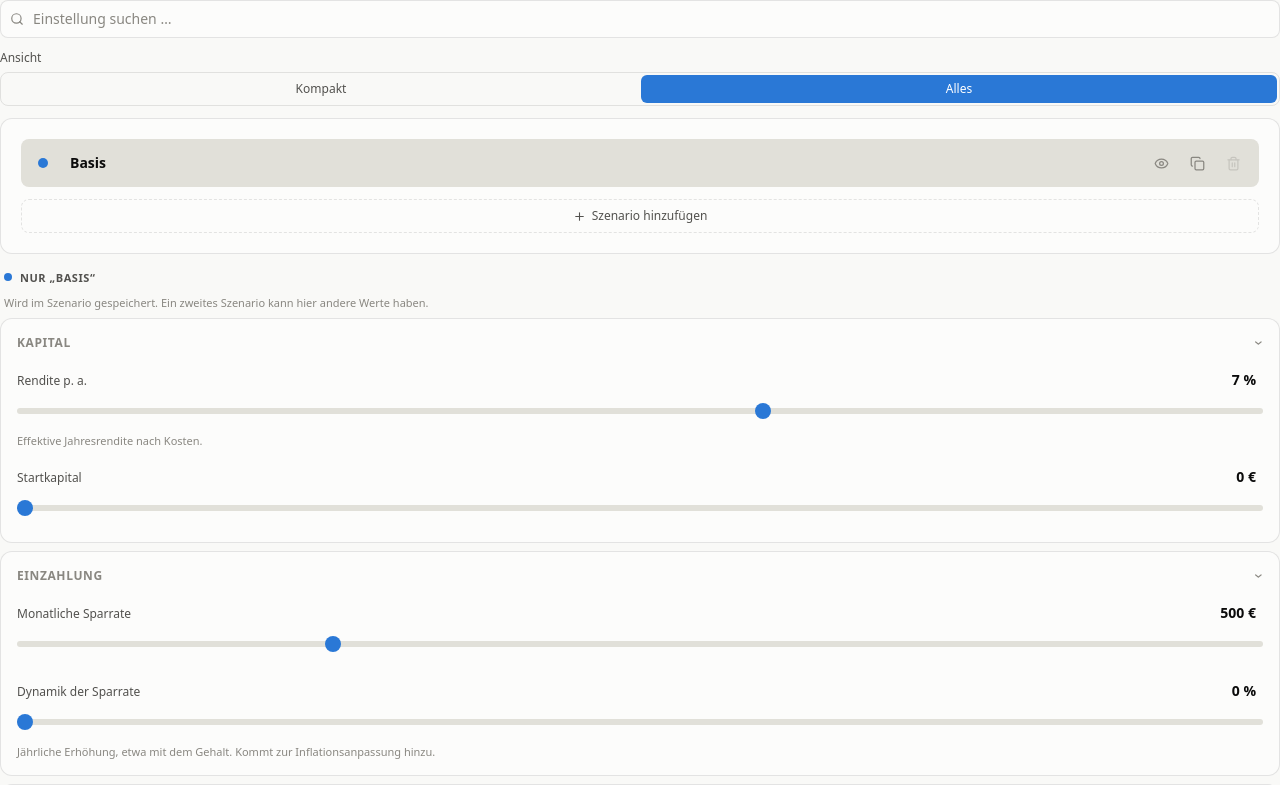
Scenario: SettingsPanel: Bereiche › öffnet bei einer Suche genau die Karten mit Treffern
This screenshot has width=1280, height=785.
Type "Ansparphase" into the search field labelled "Einstellung suchen …" at coordinates (640, 19), box [0,0,1279,38]
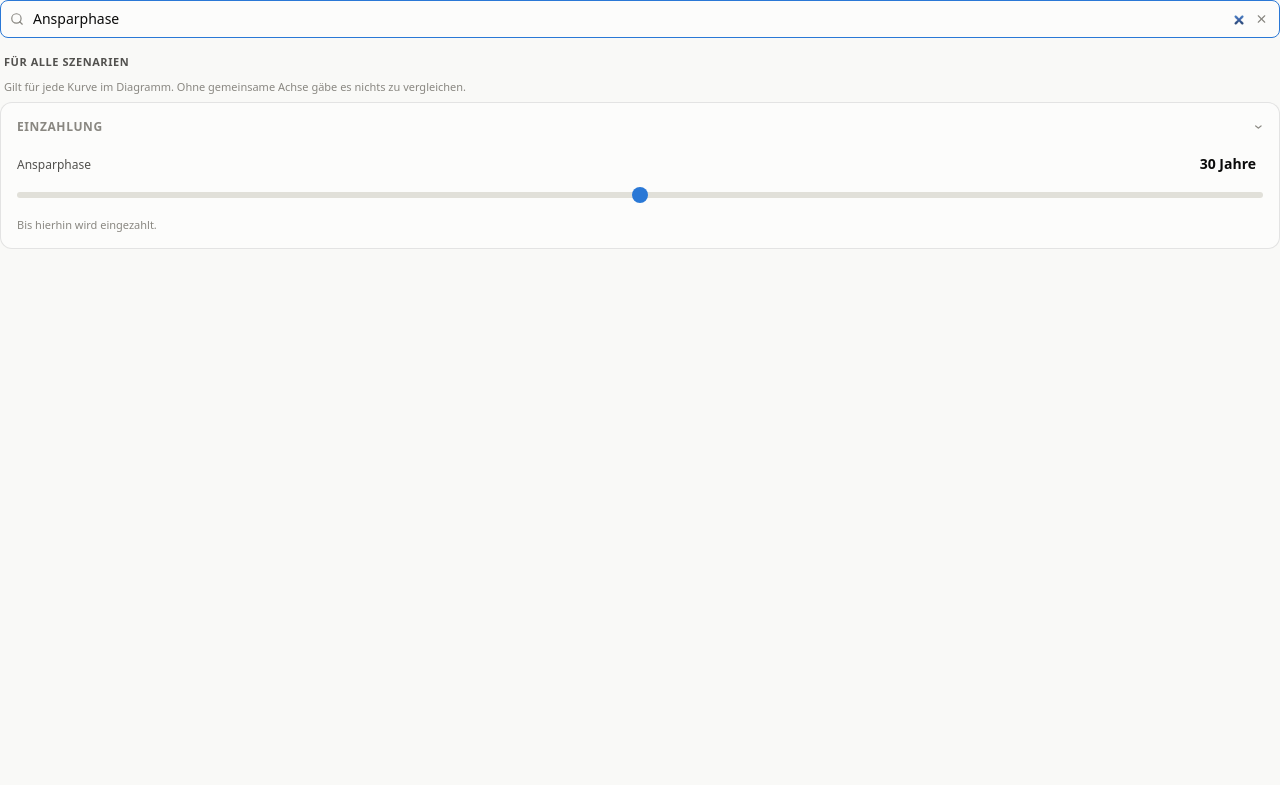
Expected: the slider named "Ansparphase" is shown, [17,183,1263,207]
Expected: the heading "Basis" is gone
